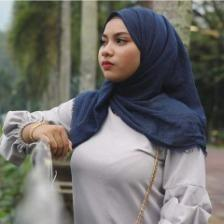Non Syar-i: (69, 6, 208, 152)
